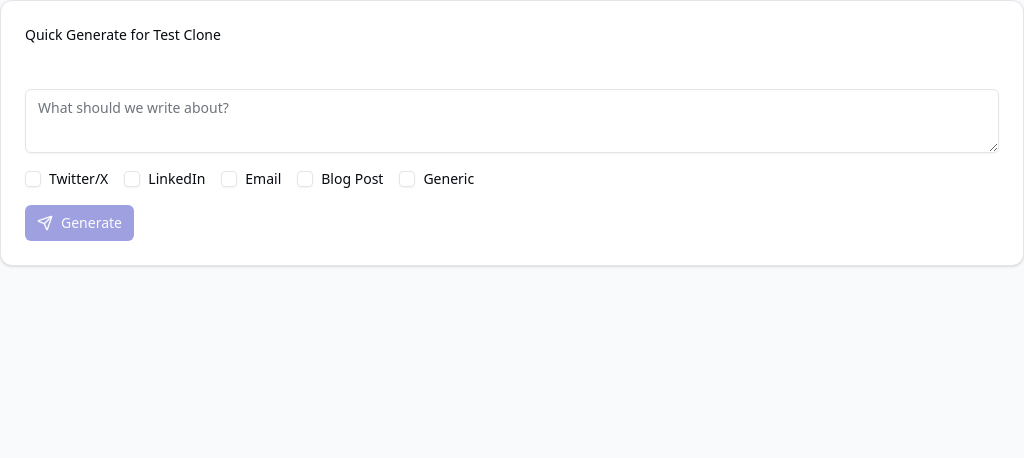
Test: QuickGenerate › shows Save to Library button after generation
Type "Write about AI" into the text box with placeholder "What should we write about?". click: (512, 121)
box: [25,89,999,153]
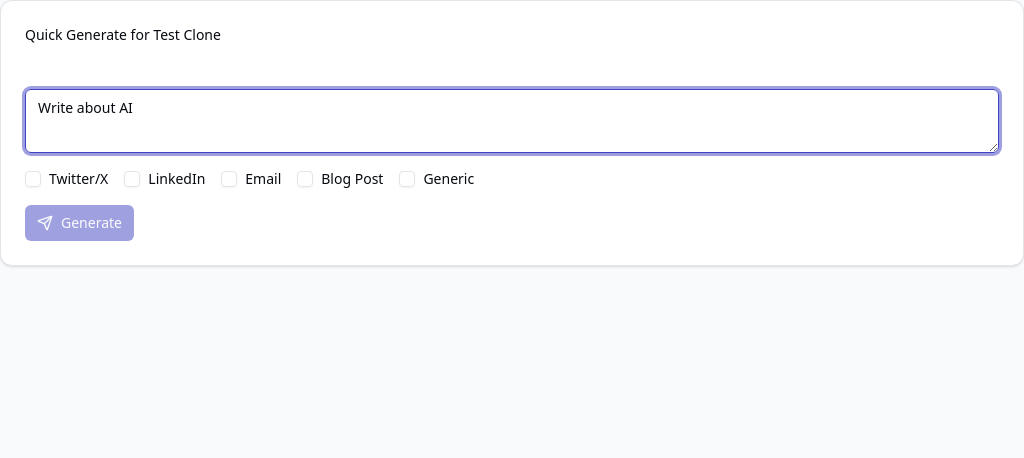
Click the checkbox named "linkedin" next to "LinkedIn". click: (132, 179)
box: [124,171,140,187]
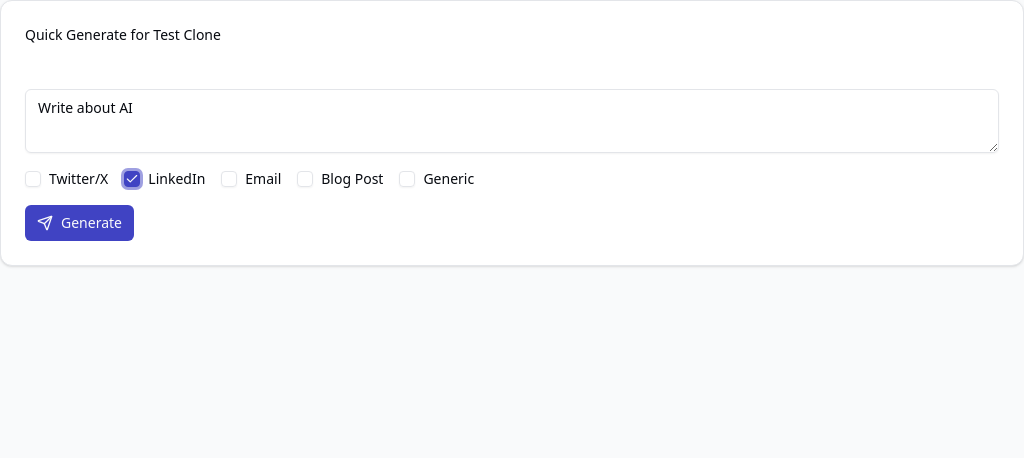
Click the button "Generate". click: (80, 223)
box: [25,205,134,241]
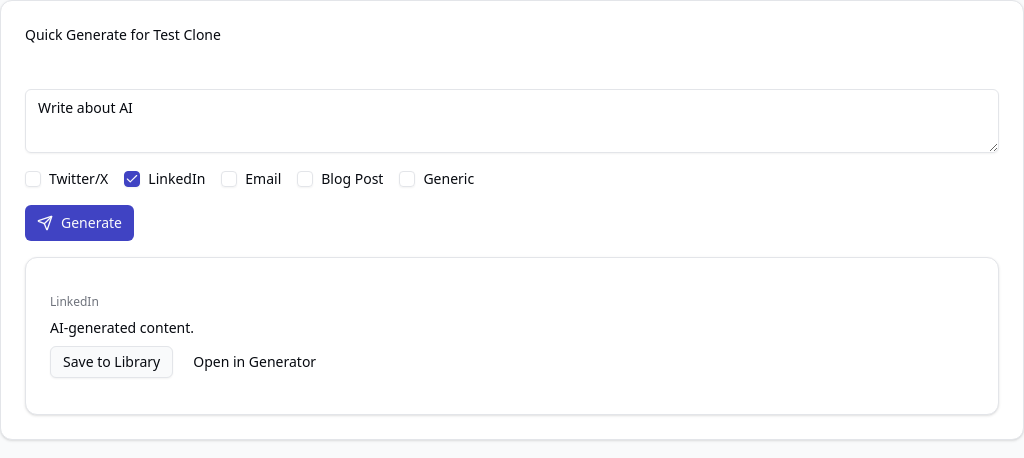
Check: the button "Save to Library" is shown, box [50,346,173,378]
